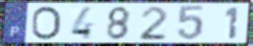1: (224, 6, 239, 40)
2: (139, 5, 168, 42)
4: (68, 5, 98, 41)
5: (176, 4, 205, 43)
8: (105, 5, 132, 41)
O: (30, 5, 63, 41)
